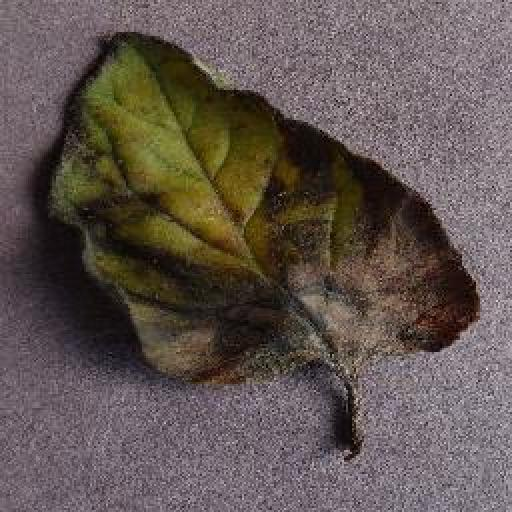Late Blight: (48, 23, 481, 392)
